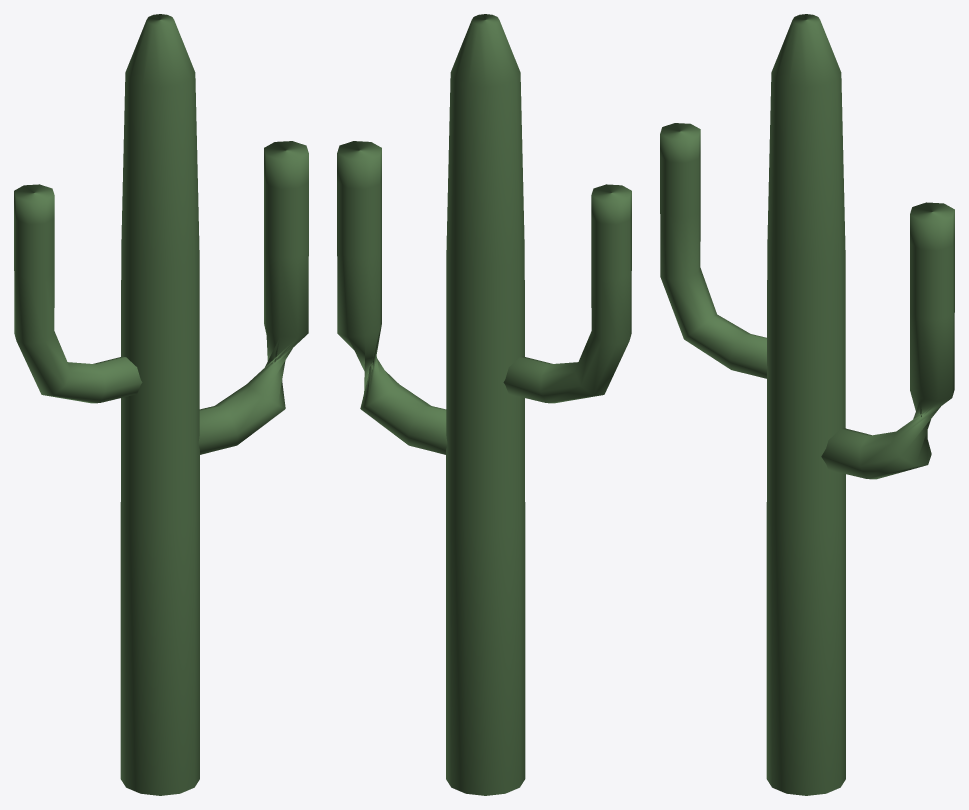
The model's file is cactus.glb.
3 views of the same model, side by side, from view 1: azimuth 30°, elevation 25°; view 2: azimuth 150°, elevation 25°; view 3: azimuth 330°, elevation 25° (orthographic).
Visible parts, largest first — view 1: Cactus; view 2: Cactus; view 3: Cactus.
Boxes of the visible parts, x1,y1,x2,y2 form: Cactus: (14, 14, 308, 795); Cactus: (337, 14, 631, 795); Cactus: (660, 14, 954, 795).
Bounding box in the file's own units: 2.88 × 7.2 × 0.68.
